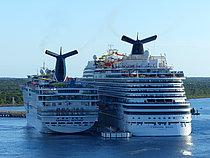Ship: (81, 29, 197, 140), (23, 41, 105, 138)
